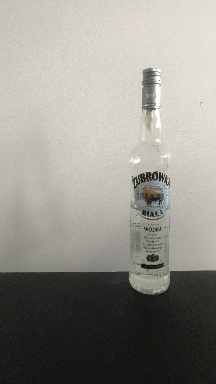butelka: (127, 63, 171, 297)
